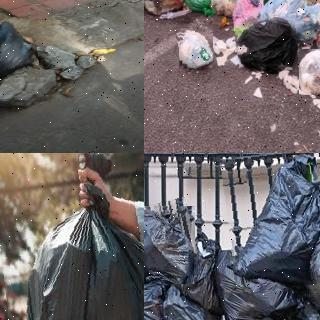Garbage: (0, 153, 144, 320), (224, 153, 320, 291), (144, 201, 198, 288), (171, 229, 222, 313), (235, 17, 299, 75), (0, 17, 38, 82), (162, 279, 222, 320), (177, 25, 215, 70), (144, 275, 177, 320), (298, 48, 320, 94), (233, 0, 259, 24), (209, 0, 244, 15), (184, 0, 213, 17)
